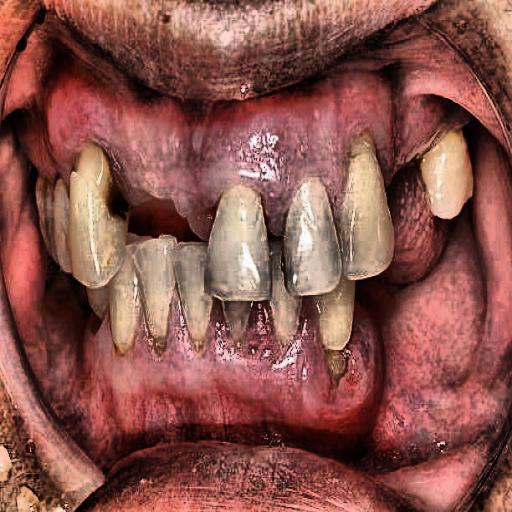Gingivitis: (61, 306, 406, 462), (35, 54, 219, 217), (221, 94, 434, 218)
